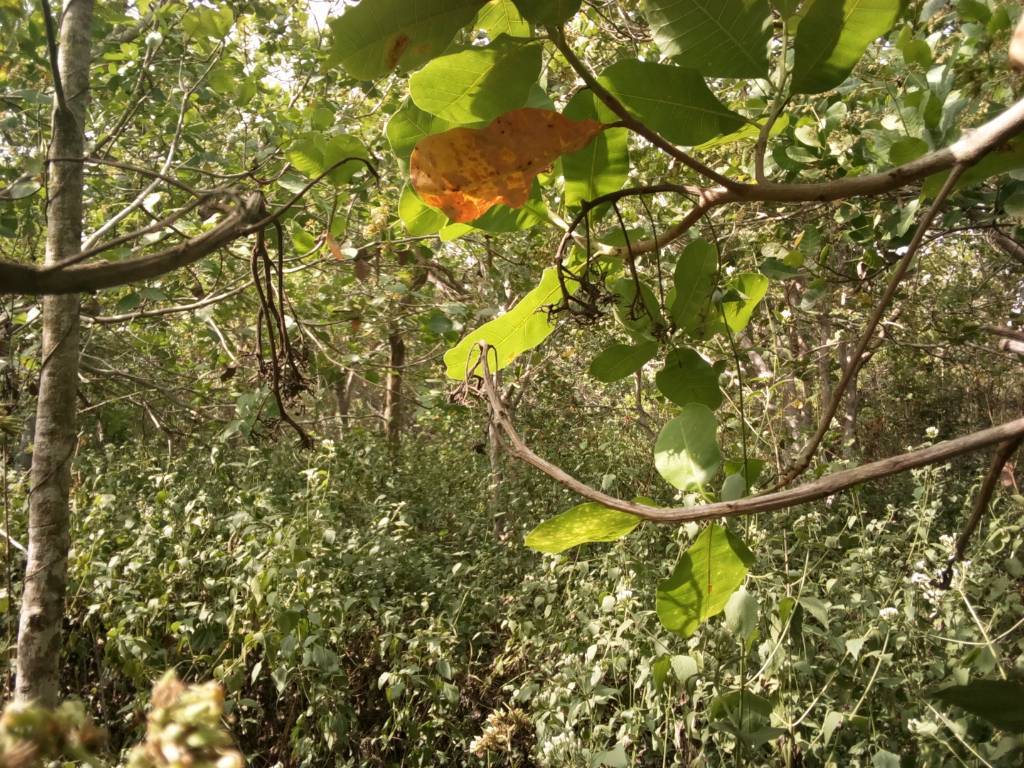Dessèchement des bourgeons: (551, 187, 708, 344), (250, 225, 321, 456)
